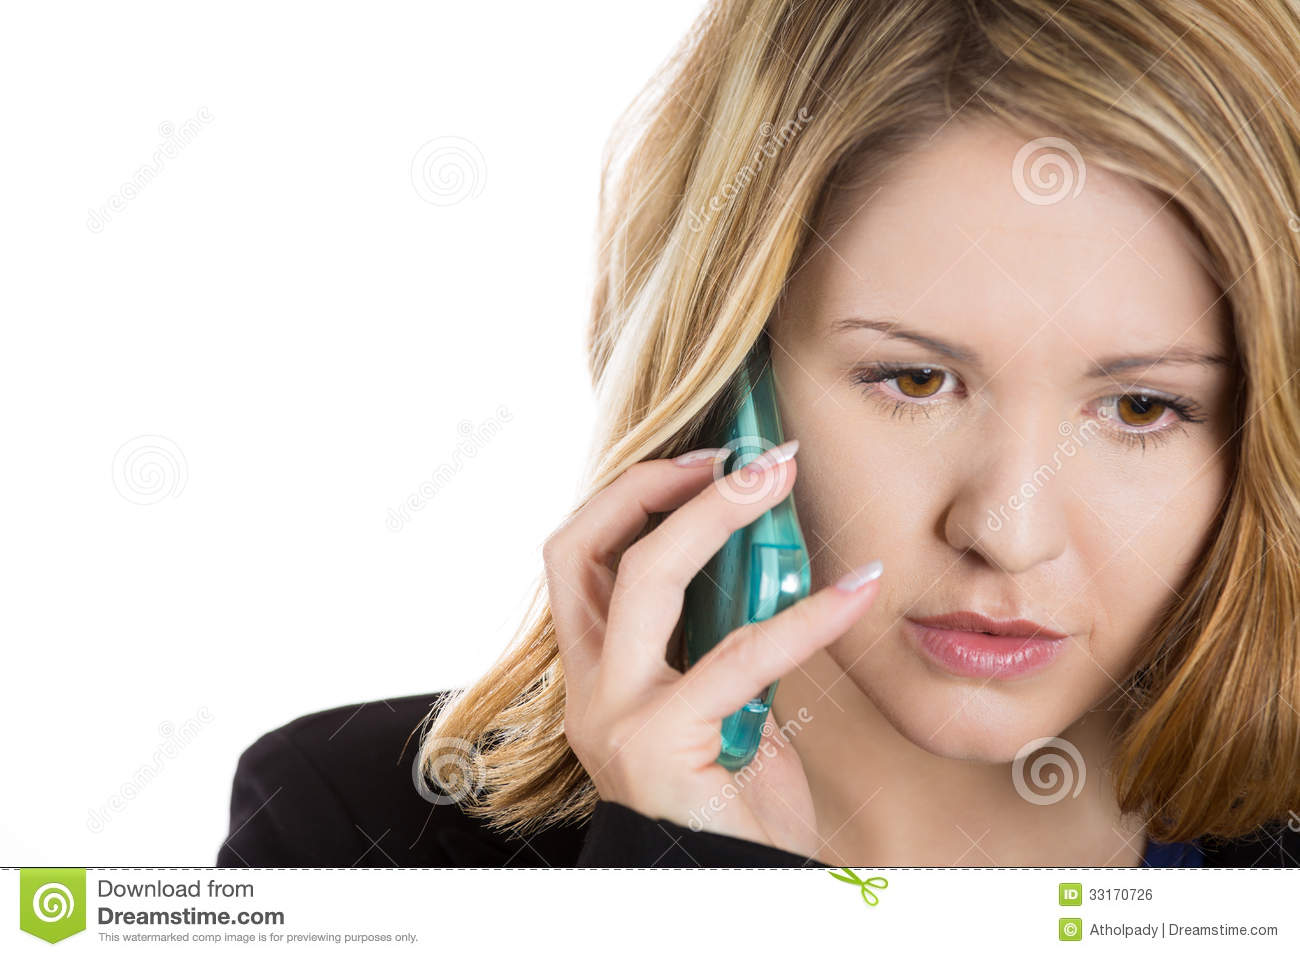phone: (697, 323, 817, 771)
talk: (544, 238, 1240, 840)
